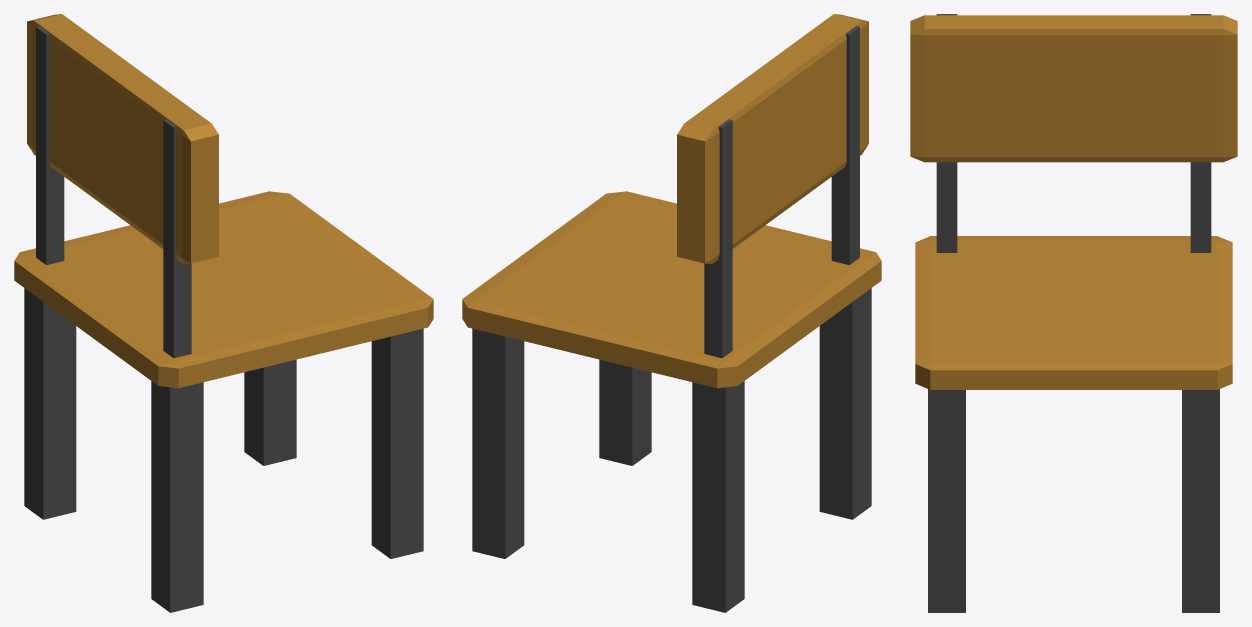
Rendered from chair.fbx.
3 views of the same model, side by side, from view 1: azimuth 30°, elevation 25°; view 2: azimuth 150°, elevation 25°; view 3: azimuth 270°, elevation 25° (orthographic).
Visible parts, largest first — view 1: Cube.004, Cube.007, Cube.001, Cube.003, Cube.002, Cube, Cube.006, Cube.005; view 2: Cube.004, Cube.007, Cube.002, Cube, Cube.001, Cube.003, Cube.005, Cube.006; view 3: Cube.007, Cube.004, Cube, Cube.003, Cube.005, Cube.006.
Boxes of the visible parts, x1=… form: Cube.004: x1=14, y1=191, x2=433, y2=388; Cube.007: x1=27, y1=14, x2=218, y2=263; Cube.001: x1=151, y1=381, x2=203, y2=612; Cube.003: x1=371, y1=328, x2=423, y2=558; Cube.002: x1=24, y1=288, x2=76, y2=519; Cube: x1=244, y1=359, x2=296, y2=465; Cube.006: x1=163, y1=119, x2=191, y2=358; Cube.005: x1=36, y1=26, x2=64, y2=264; Cube.004: x1=462, y1=191, x2=881, y2=388; Cube.007: x1=677, y1=14, x2=868, y2=263; Cube.002: x1=692, y1=381, x2=744, y2=612; Cube: x1=472, y1=328, x2=524, y2=558; Cube.001: x1=819, y1=288, x2=871, y2=519; Cube.003: x1=599, y1=359, x2=651, y2=465; Cube.005: x1=704, y1=119, x2=732, y2=358; Cube.006: x1=831, y1=26, x2=859, y2=264; Cube.007: x1=910, y1=15, x2=1237, y2=162; Cube.004: x1=915, y1=236, x2=1232, y2=389; Cube: x1=1182, y1=389, x2=1219, y2=612; Cube.003: x1=928, y1=389, x2=965, y2=612; Cube.005: x1=1190, y1=14, x2=1211, y2=252; Cube.006: x1=936, y1=14, x2=957, y2=252.
Bounding box in the file's own units: 250 × 417 × 258.
